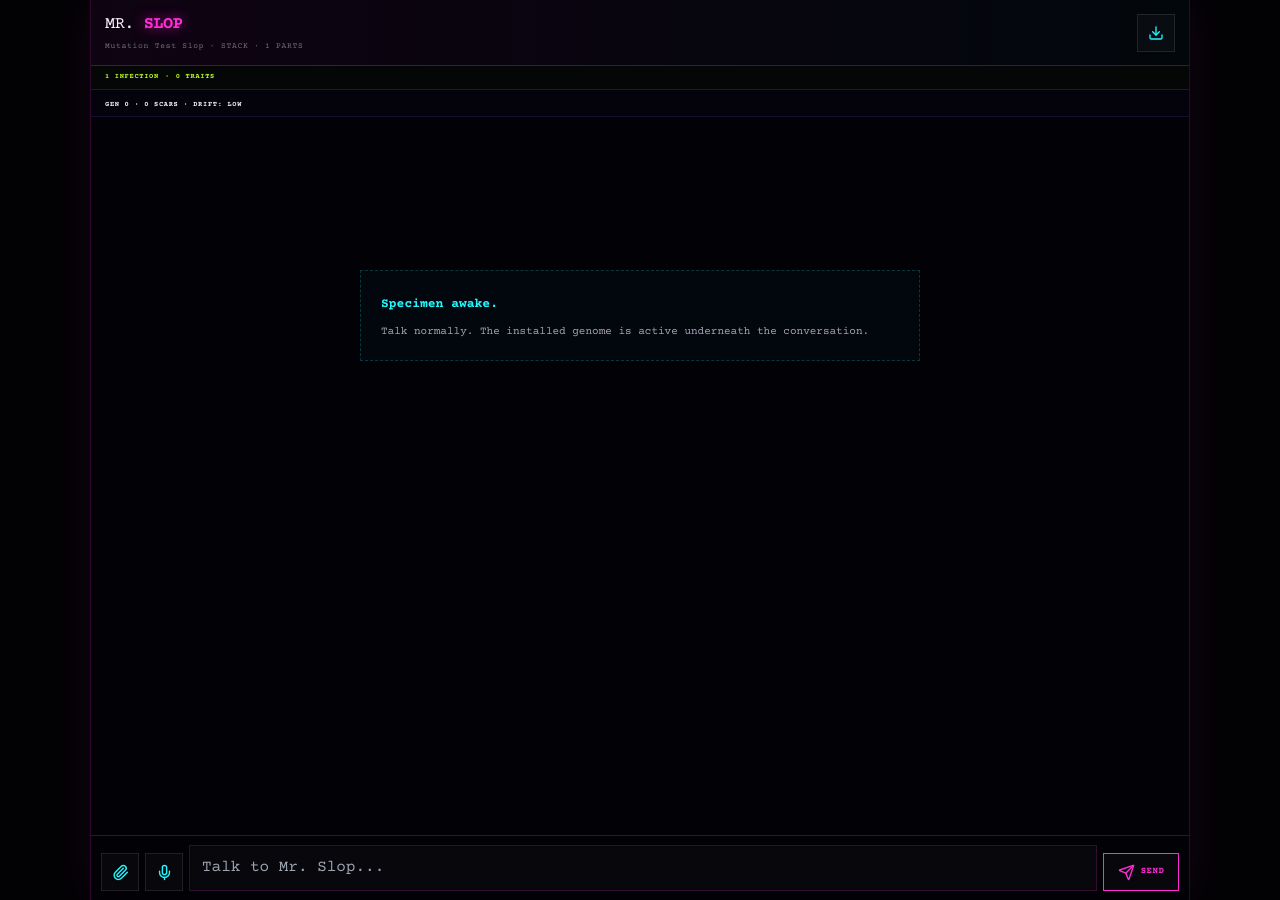
it: Mr. Slop mutation UI and lifecycle › does not decrement infection on a failed model turn
Type "hello" into the text box with placeholder "Talk to Mr. Slop..." at (643, 868), box [189, 845, 1097, 891]
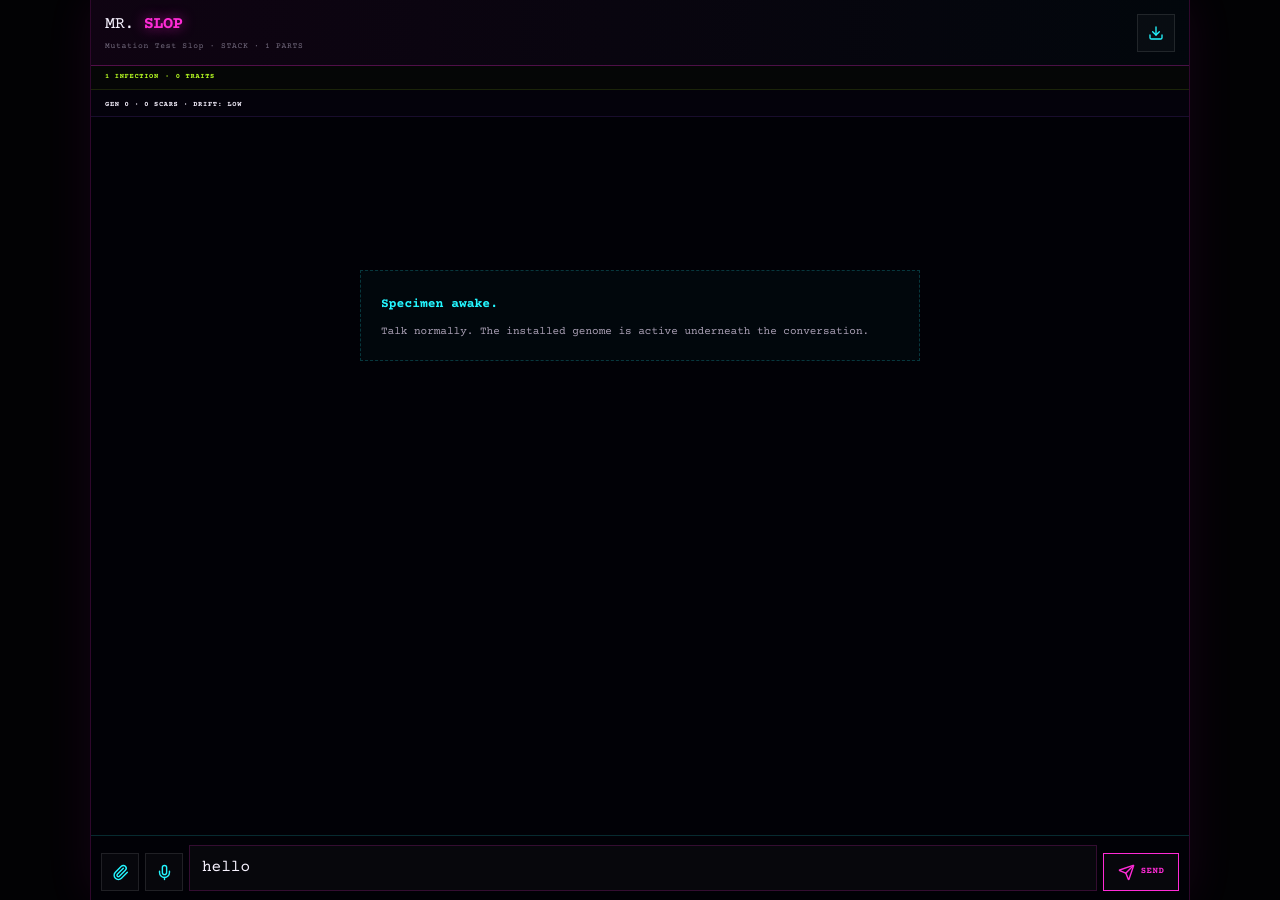
Click the button "SEND" at (1141, 872), box [1103, 853, 1179, 891]
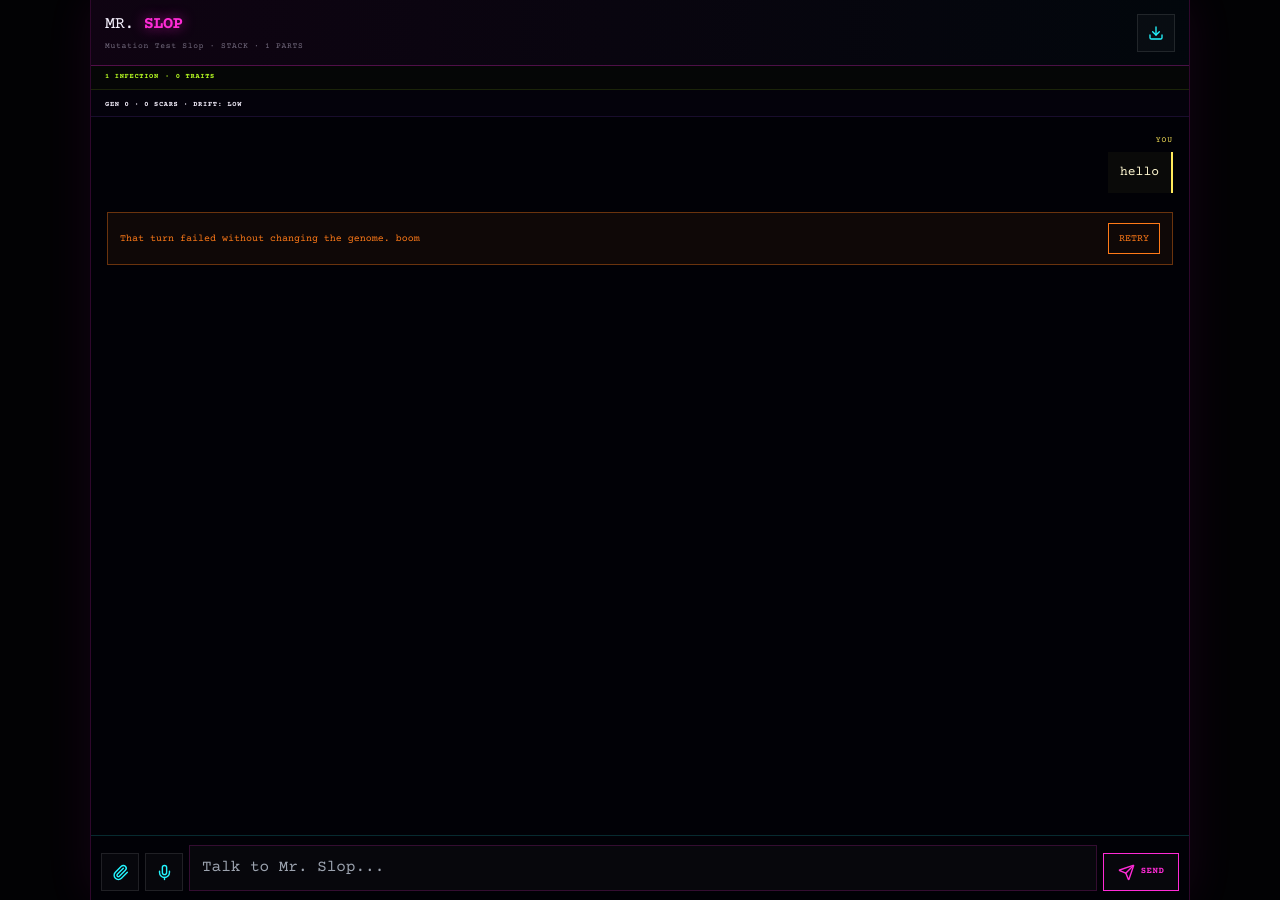
Expected: the button "RETRY" is shown, [1108, 222, 1160, 254]
